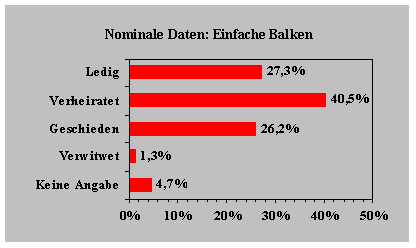canvas: (132, 62, 370, 195)
title: (103, 27, 315, 44)
x-axis: (124, 196, 375, 205)
x-labels: (119, 210, 391, 221)
y-axis: (124, 55, 133, 206)
y-labels: (33, 60, 122, 195)
